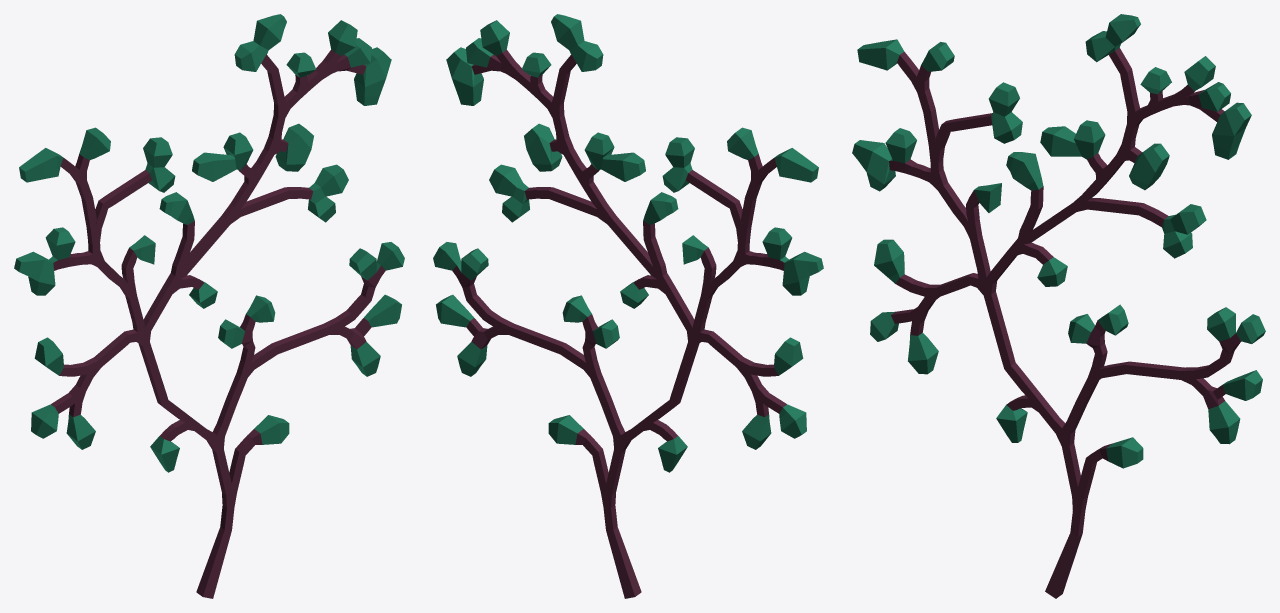
Rendered from ivy_001_grp.fbx.
The picture shows the model from 3 angles, left to right: view 1: azimuth 30°, elevation 25°; view 2: azimuth 150°, elevation 25°; view 3: azimuth 330°, elevation 25°; orthographic projection. The views are drawn at different scales.
Parts seen in each view (by area): view 1: ivy_001_grp; view 2: ivy_001_grp; view 3: ivy_001_grp.
Boxes of the visible parts, <box> form: ivy_001_grp: <box>14,14,404,598</box>; ivy_001_grp: <box>433,14,823,598</box>; ivy_001_grp: <box>852,14,1265,598</box>.
Bounding box in the file's own units: 500 × 700 × 24.95.
